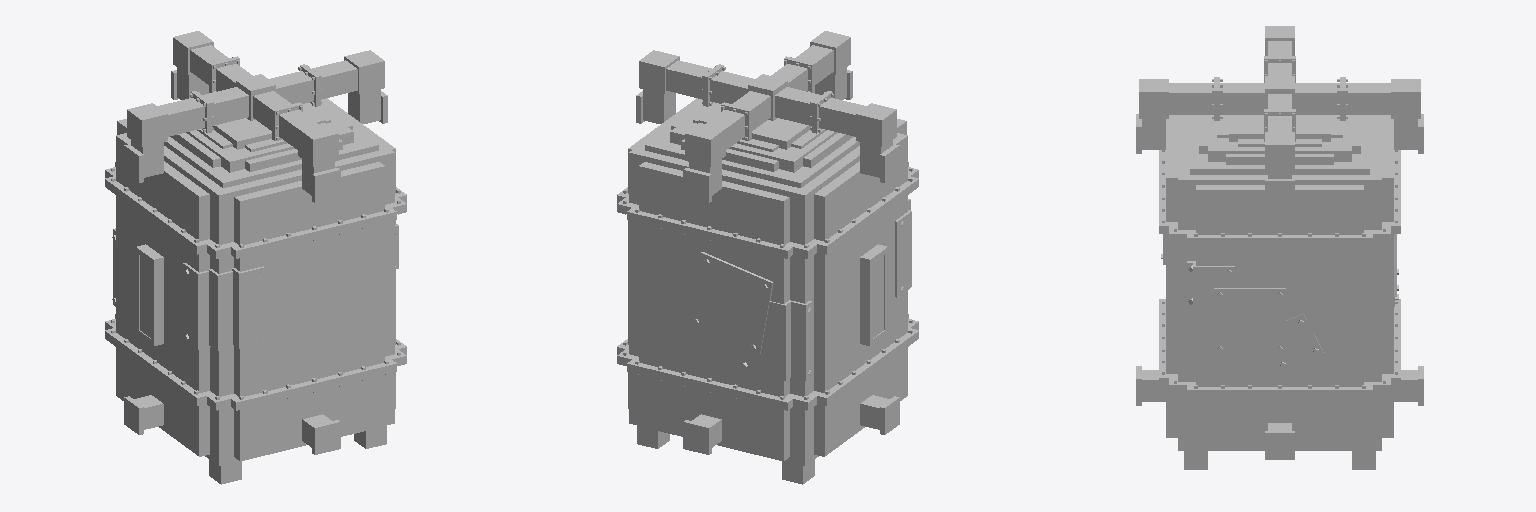
Rendered from fluidtank_big.obj.
3 views of the same model, side by side, from view 1: azimuth 30°, elevation 25°; view 2: azimuth 150°, elevation 25°; view 3: azimuth 270°, elevation 25° (orthographic).
Size of the model in its own units: 3 by 4 by 3.